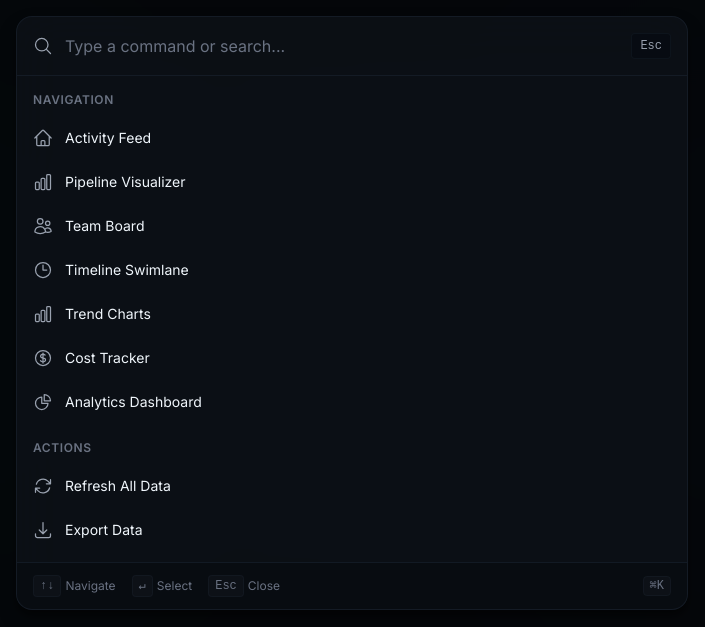
Test: CommandPalette › filters commands based on search query
In the field with placeholder "Type a command or search...": (342, 46) 65,34 -> 619,58, type "team"
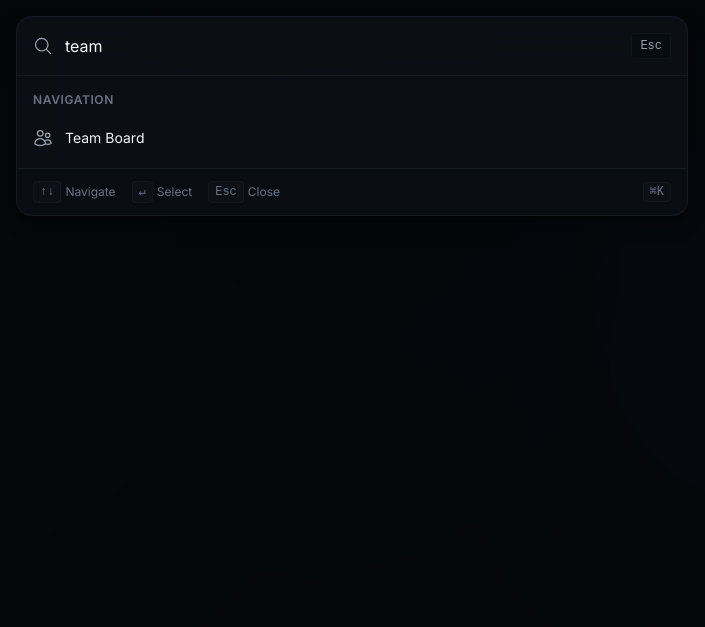
Check: the text "Team Board" is shown, box 65,128 -> 144,146
Check: the button "Activity Feed" is gone
